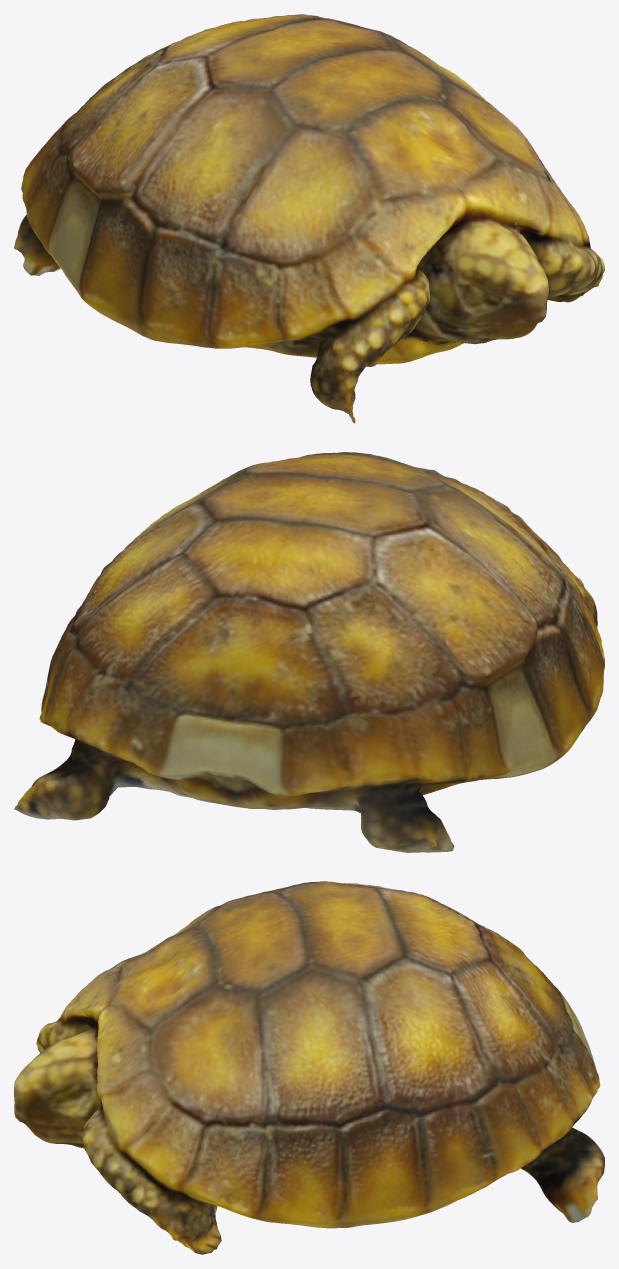
The model's file is nm__yftortoise.glb.
The picture shows the model from 3 angles, top to bottom: view 1: azimuth 30°, elevation 25°; view 2: azimuth 150°, elevation 25°; view 3: azimuth 270°, elevation 25°; orthographic projection. The views are drawn at different scales.
Visible parts, largest first — view 1: Object_4; view 2: Object_4; view 3: Object_4.
Part boxes in pixels (left/top/right/bottom): Object_4: left=14, top=14, right=604, bottom=423; Object_4: left=14, top=452, right=604, bottom=852; Object_4: left=14, top=881, right=604, bottom=1254.
Size of the model in its own units: 0.3624 by 0.2 by 0.4272.
1 material, 1 textured.
